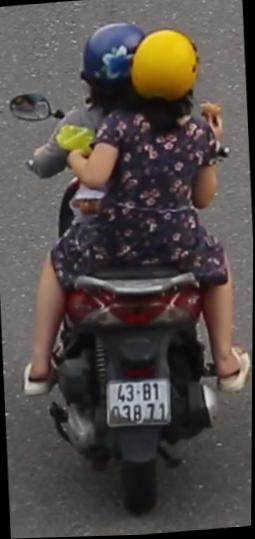LP: (100, 373, 176, 434)
helmet: (121, 25, 214, 131), (67, 12, 146, 107)
